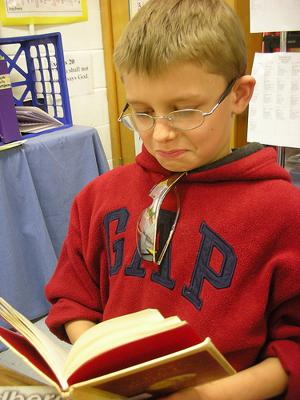person: (44, 5, 300, 400)
